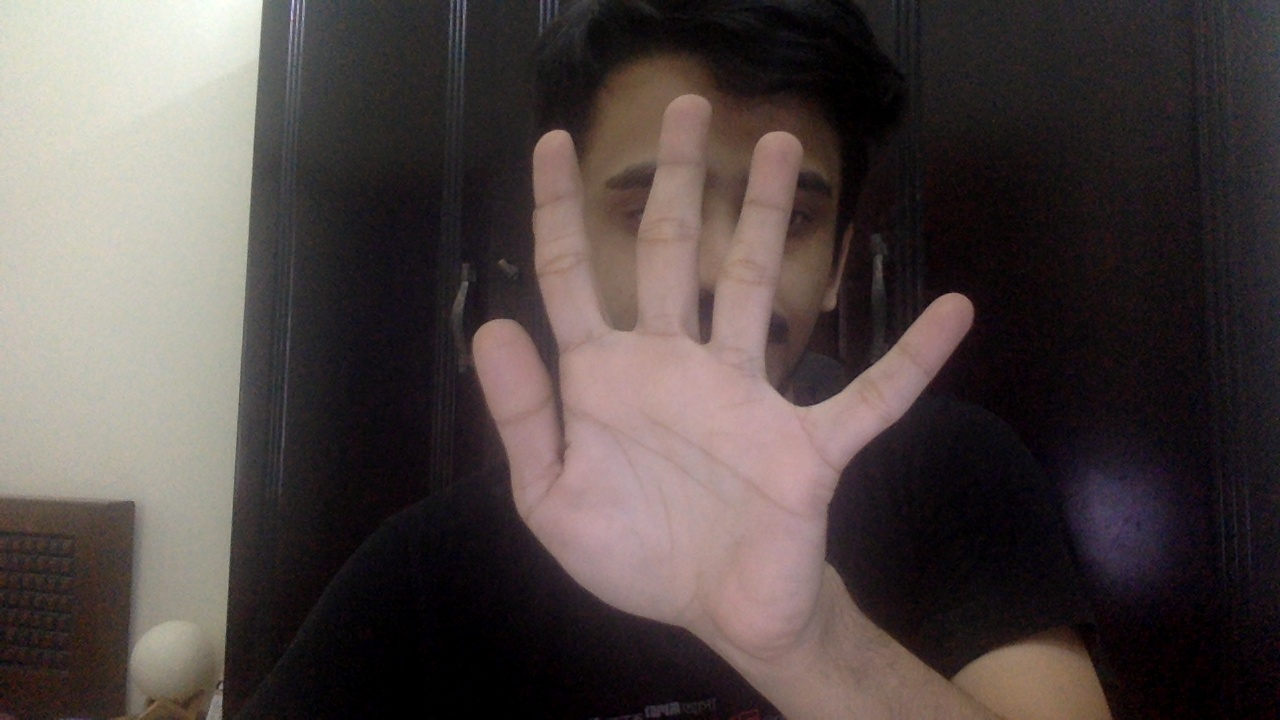stop: (470, 93, 977, 650)
